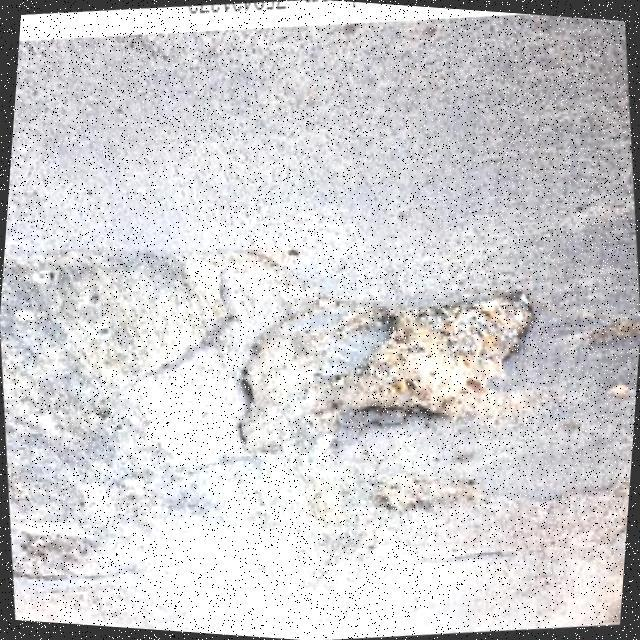Pothole: (233, 293, 541, 452), (12, 528, 137, 587), (383, 473, 461, 515)
